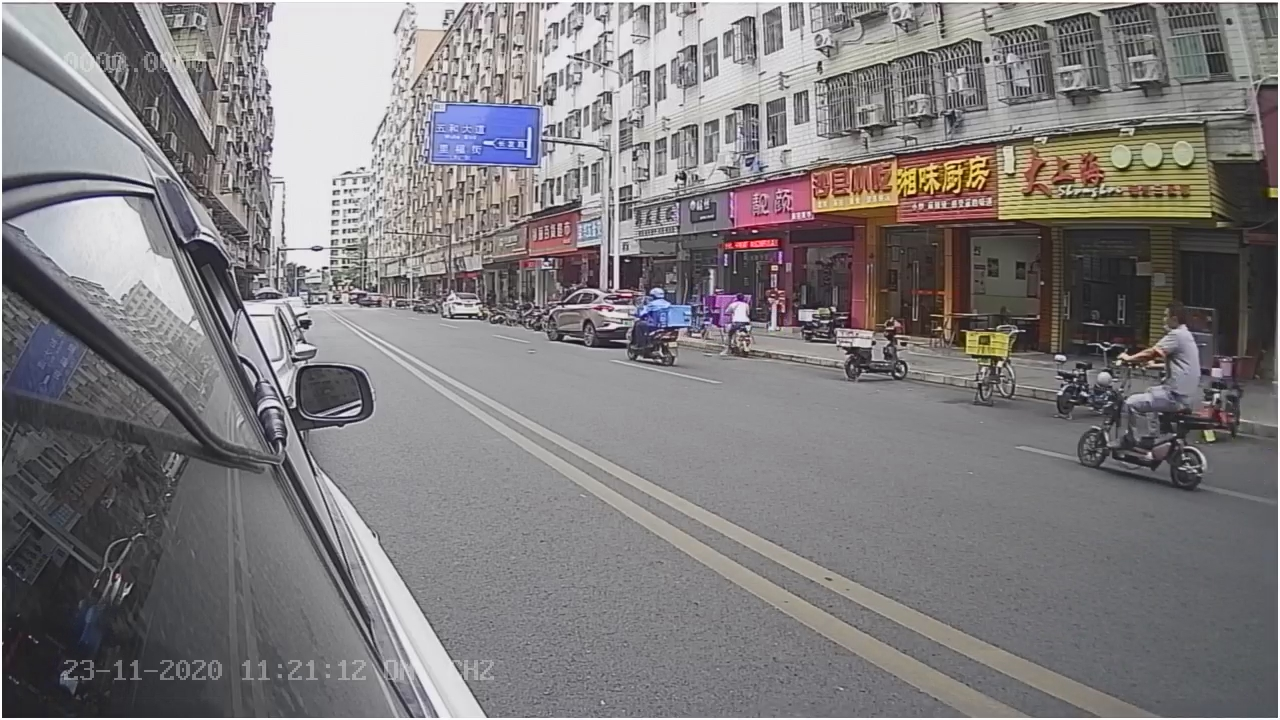person: (1148, 301, 1202, 423)
